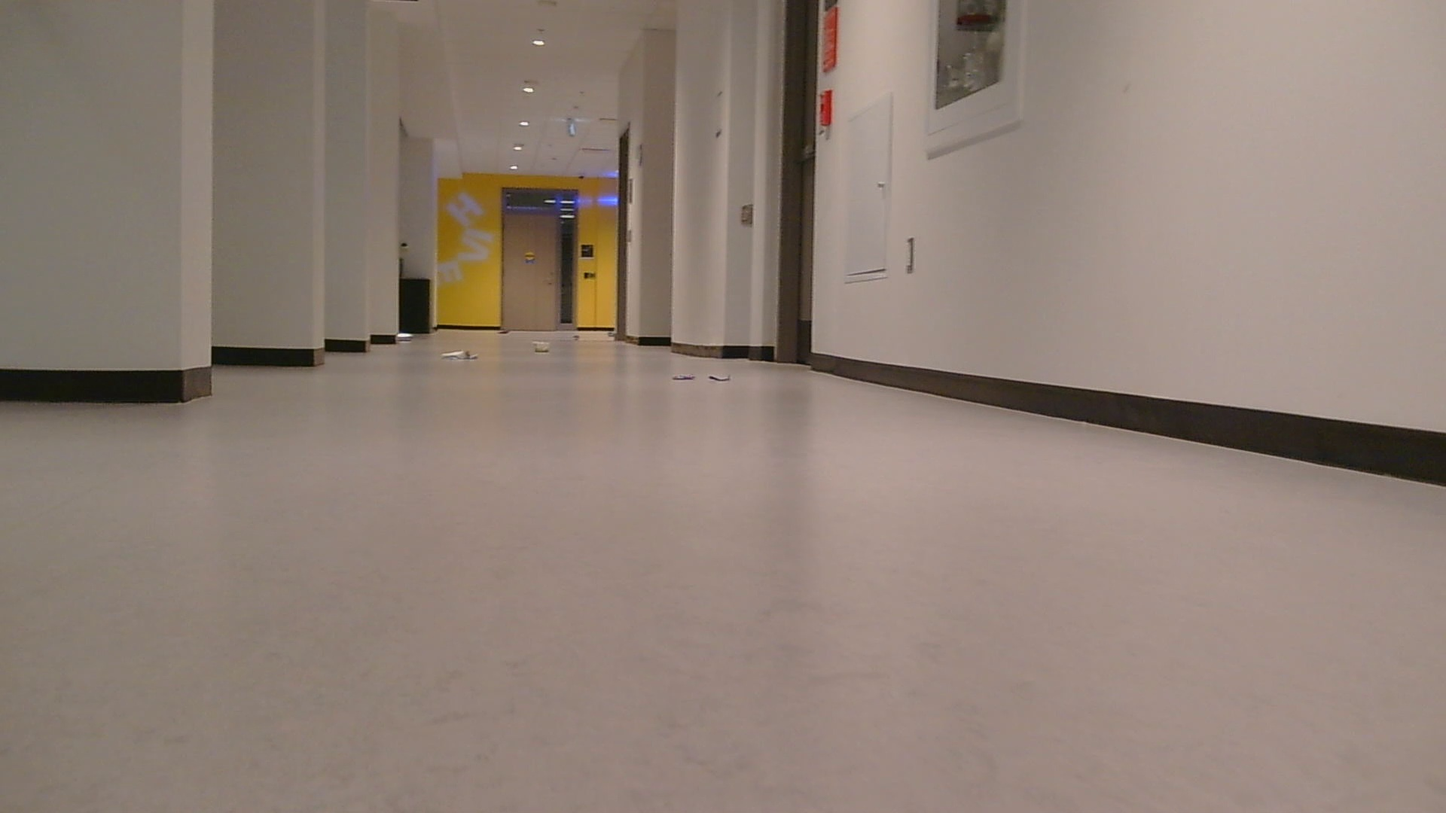carton: (671, 370, 740, 388), (436, 352, 487, 367), (534, 340, 571, 356), (570, 325, 583, 336)
